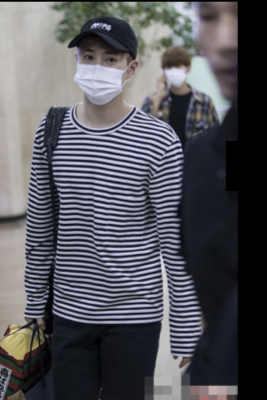with_mask: (76, 46, 128, 105), (164, 63, 185, 89)
without_mask: (196, 3, 237, 98)
